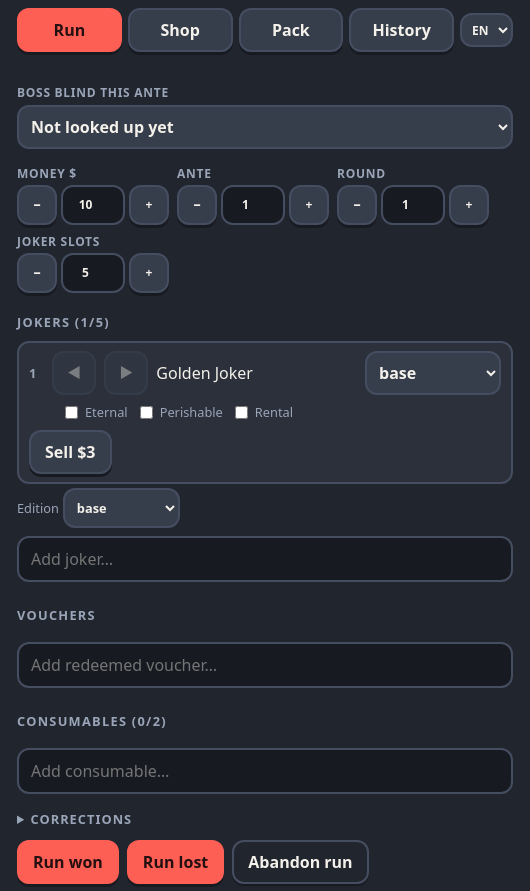
corrects the per-round resource
The image size is (530, 891).
(page scrolled)
Click the heading "Corrections". click: (81, 819)
box: [30, 810, 132, 828]
(page scrolled)
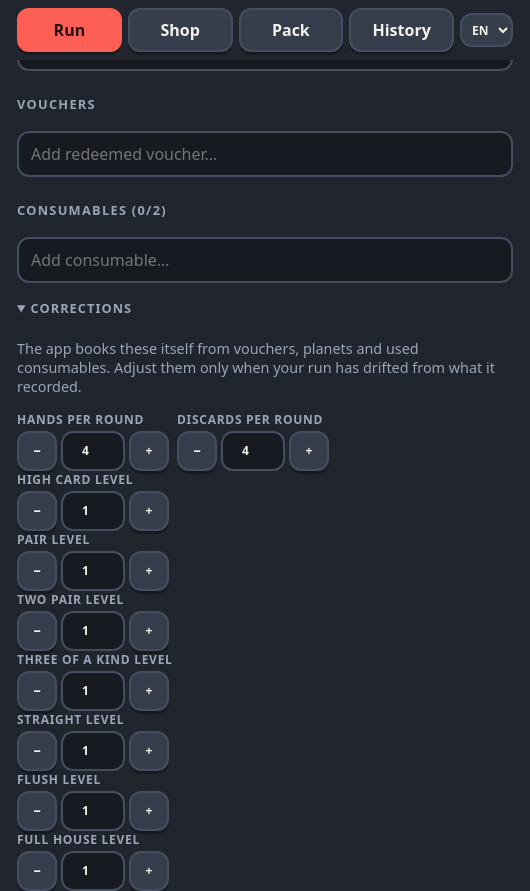
Expected: the number field labelled "Hands per round" holds "4", [61, 431, 125, 471]
Click the button named "increase Discards per round". click: (309, 451)
box: [289, 431, 329, 471]
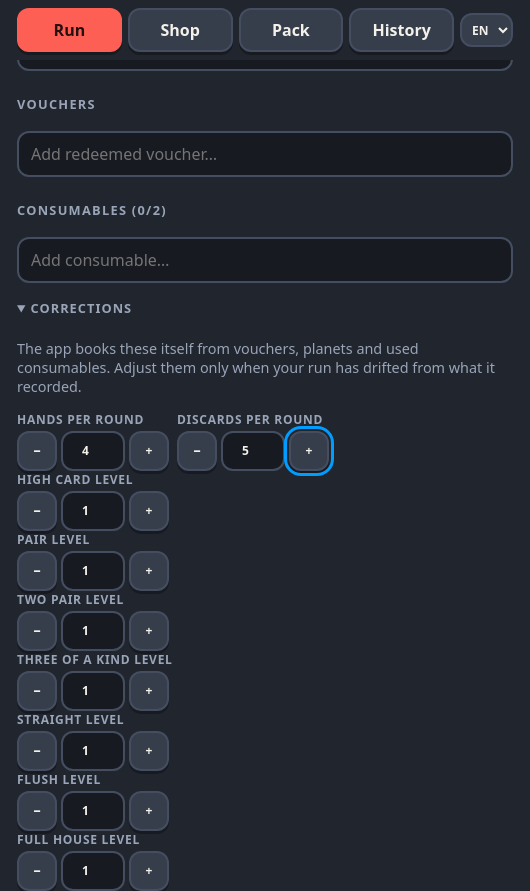
Expected: the number field labelled "Discards per round" holds "5", [221, 431, 285, 471]
